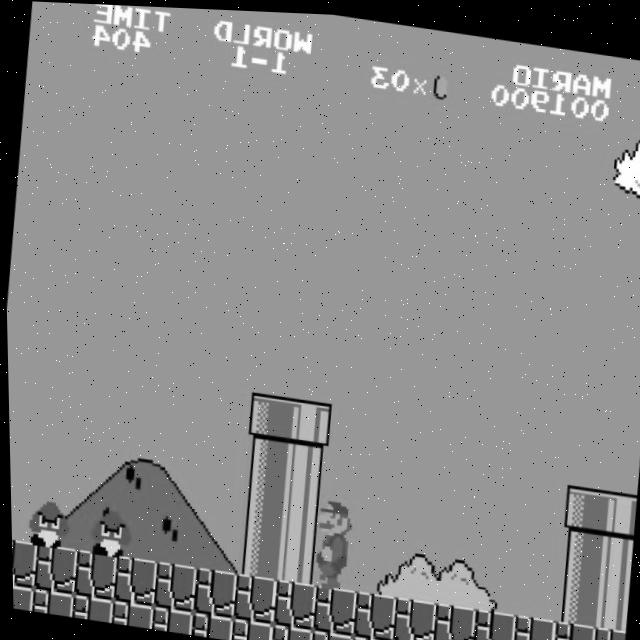0- big_mario: (301, 490, 356, 590)
14- pipe: (555, 524, 602, 576), (551, 569, 598, 621), (276, 485, 323, 537), (272, 530, 319, 582), (236, 480, 283, 532), (233, 525, 279, 576), (241, 435, 287, 485), (281, 440, 326, 491), (595, 530, 631, 580), (592, 575, 628, 625)
15- pipe_head: (244, 389, 291, 441), (284, 395, 331, 446), (560, 479, 605, 530), (600, 485, 635, 534)
17- undestructible_block: (348, 587, 395, 639), (308, 581, 355, 633), (268, 576, 315, 628), (149, 559, 196, 611), (69, 548, 116, 600), (228, 571, 275, 622), (189, 565, 236, 616), (29, 543, 76, 594), (109, 553, 155, 605), (388, 593, 434, 640), (428, 598, 475, 640), (468, 604, 515, 640), (507, 609, 554, 640), (9, 537, 36, 588), (187, 610, 231, 639), (147, 604, 191, 633), (107, 599, 151, 627), (68, 594, 111, 622), (28, 588, 71, 616), (547, 615, 594, 640), (227, 616, 271, 640), (267, 621, 311, 640), (587, 620, 623, 640), (10, 583, 32, 611), (307, 626, 350, 640), (347, 632, 390, 640), (386, 638, 429, 640)
8- goomba: (86, 505, 135, 559), (24, 496, 73, 550)
